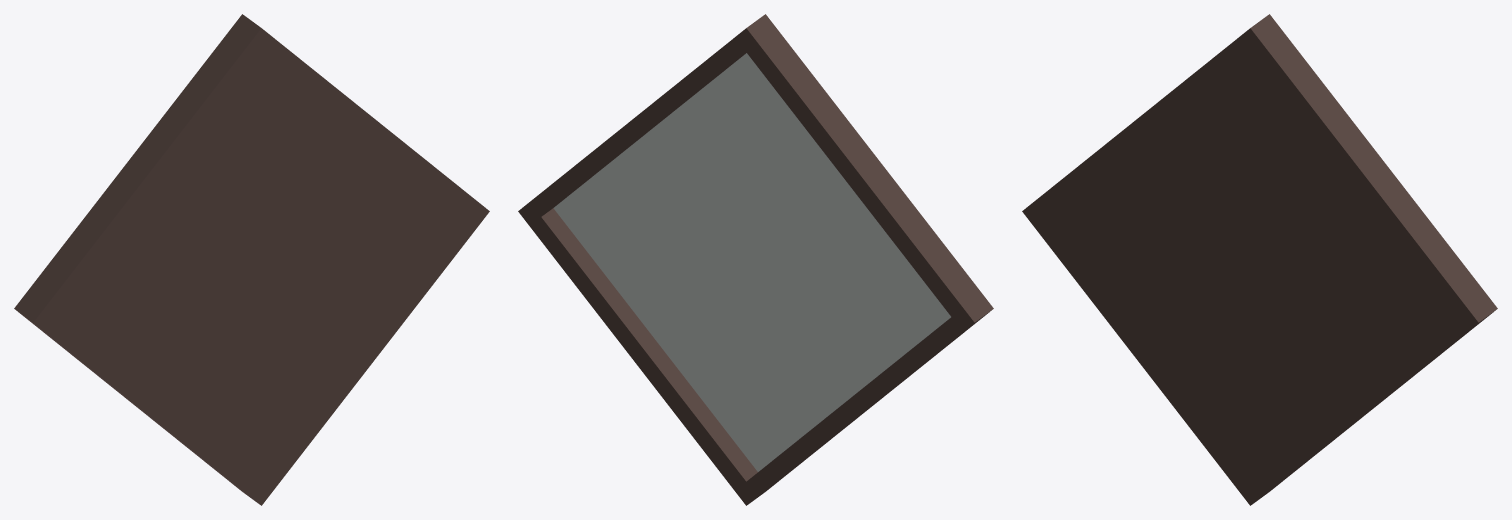
Rendered from SM_Env_Misc_07.fbx.
The picture shows the model from 3 angles, left to right: view 1: azimuth 30°, elevation 25°; view 2: azimuth 150°, elevation 25°; view 3: azimuth 330°, elevation 25°; orthographic projection.
Visible parts, largest first — view 1: SM_Env_Misc_07; view 2: SM_Env_Misc_07; view 3: SM_Env_Misc_07.
Boxes of the visible parts, bbox=[...] form: SM_Env_Misc_07: bbox=[14, 14, 489, 505]; SM_Env_Misc_07: bbox=[518, 14, 993, 505]; SM_Env_Misc_07: bbox=[1022, 14, 1497, 505].
Bounding box in the file's own units: 60.76 × 60.76 × 4.44.
1 material, 1 textured.
